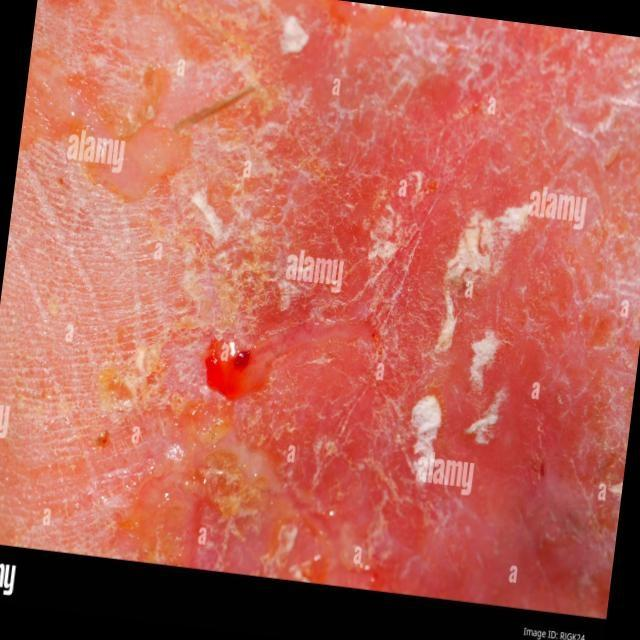Eczema: (68, 3, 561, 543)
